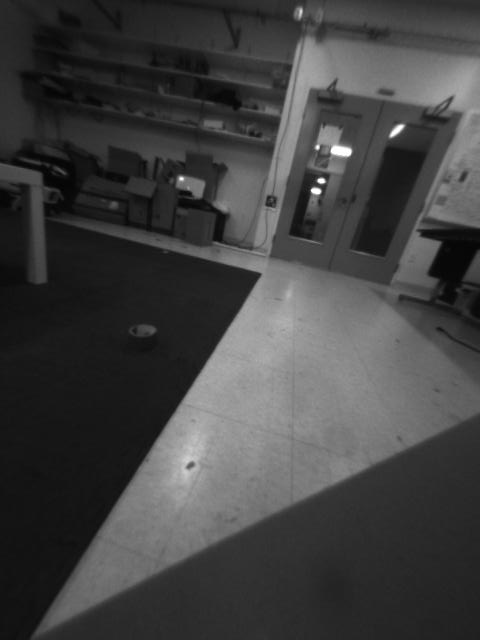dogtoy: (111, 313, 175, 350)
